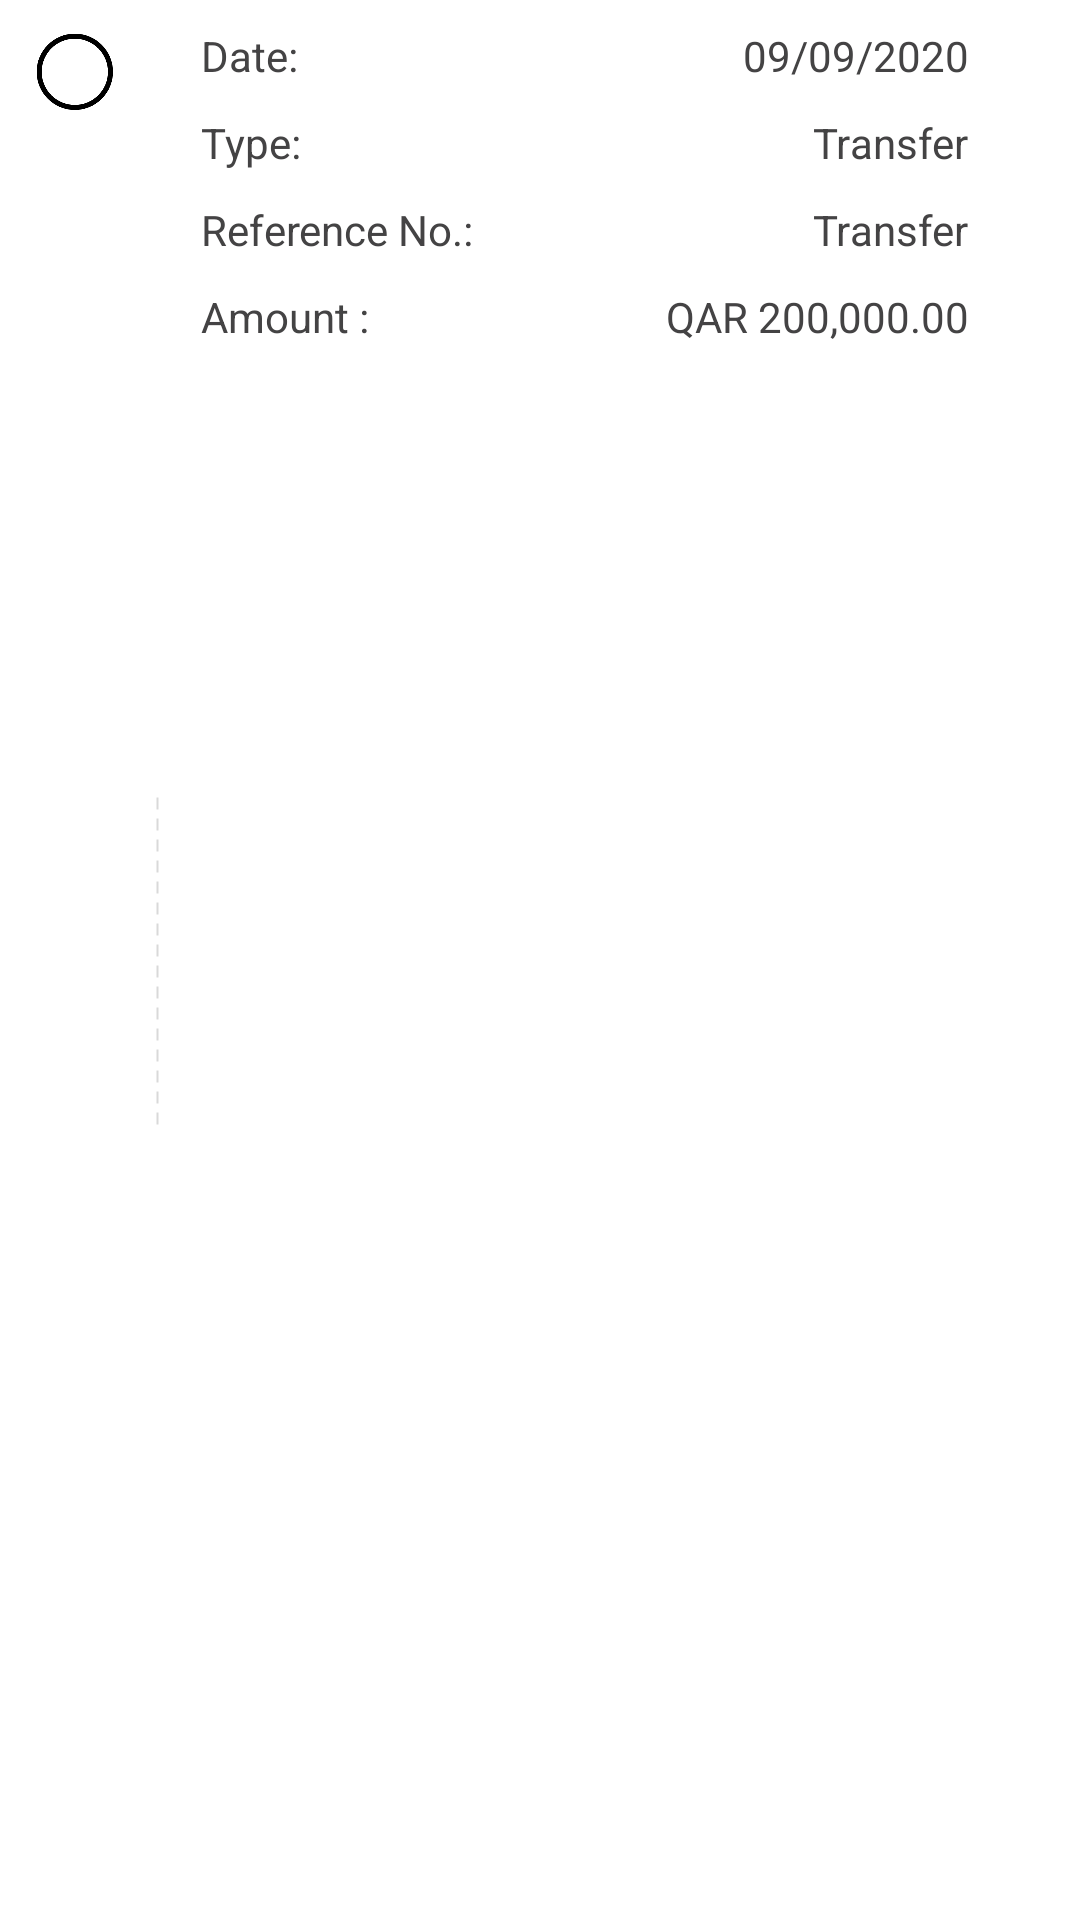

Named icons in this screenshot (1080w x 1920h) and their bounding boxes, {"left": x1, "top": y1, "right": x2, "bottom": y2}:
checkbox states: {"left": 37, "top": 34, "right": 113, "bottom": 110}
